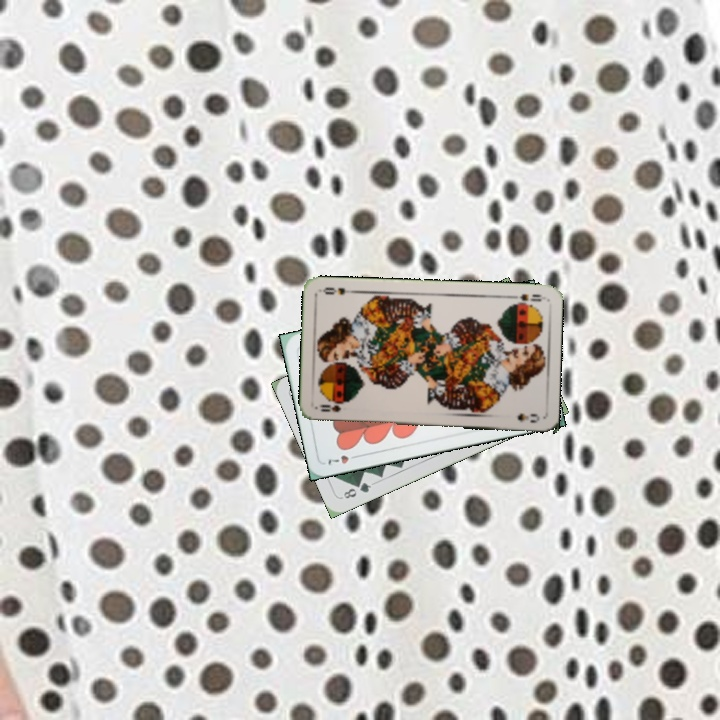G8: (339, 478, 374, 501)
H7: (324, 451, 362, 468)
SO: (506, 290, 544, 306), (316, 400, 343, 414)
